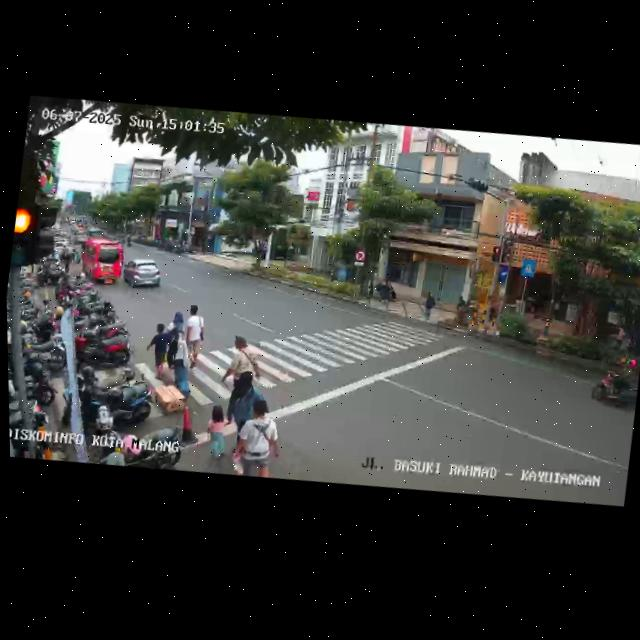car: (74, 236, 126, 289), (121, 255, 165, 295)
motorcycle: (587, 347, 640, 417)
person: (212, 332, 267, 432), (229, 394, 285, 480), (225, 367, 278, 448), (199, 402, 240, 477), (160, 309, 190, 373), (180, 303, 210, 365), (147, 318, 174, 376), (422, 290, 438, 323)
